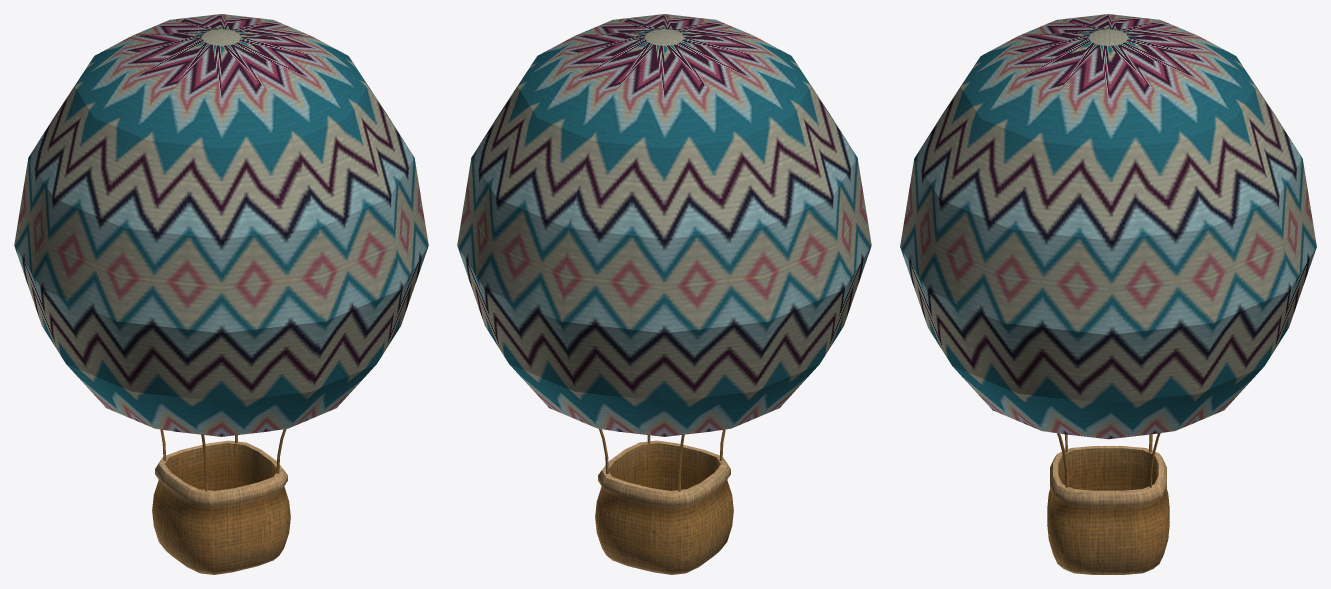
Rendered from HOS0910005.fbx.
3 renders of one model, left to right at view 1: azimuth 30°, elevation 25°; view 2: azimuth 150°, elevation 25°; view 3: azimuth 270°, elevation 25°, orthographic.
Parts seen in each view (by area): view 1: smHOS0910005; view 2: smHOS0910005; view 3: smHOS0910005.
Part boxes in pixels (bbox=[...]): smHOS0910005: bbox=[14, 14, 428, 574]; smHOS0910005: bbox=[457, 14, 871, 574]; smHOS0910005: bbox=[900, 14, 1316, 574].
Size of the model in its own units: 481 by 663 by 481.
1 material, 1 textured.
